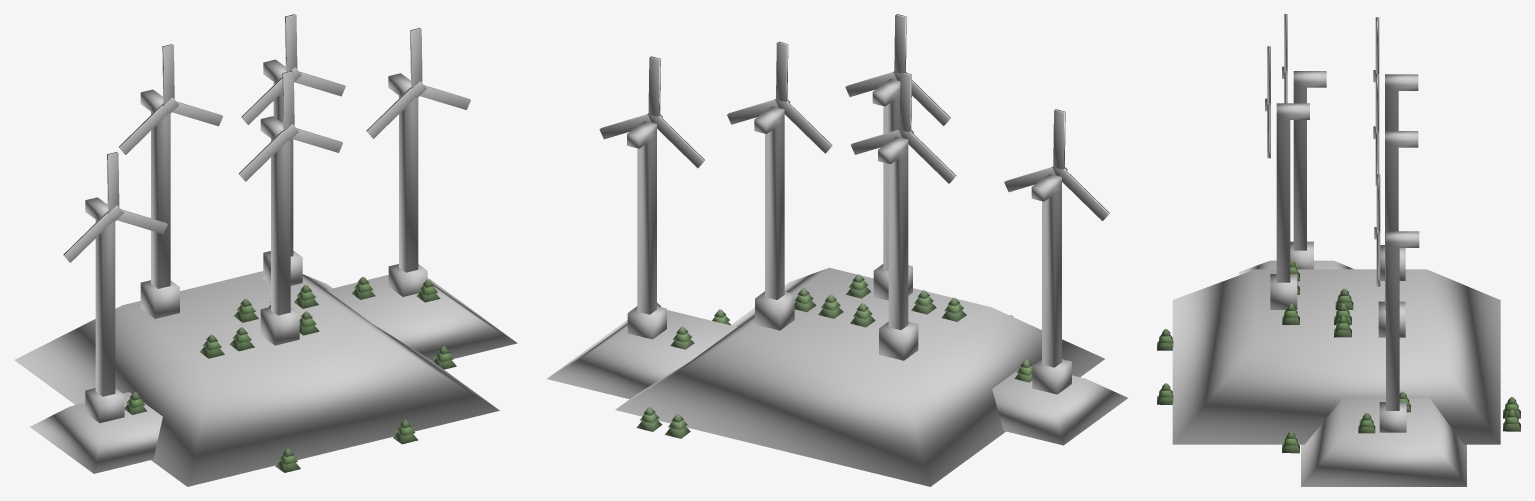
Rendered from Windmill.fbx.
3 renders of one model, left to right at view 1: azimuth 30°, elevation 25°; view 2: azimuth 150°, elevation 25°; view 3: azimuth 270°, elevation 25°, orthographic. The views are drawn at different scales.
Parts seen in each view (by area): view 1: Rock_001, Rock_000, Rock_002, Foot_002, Foot_003, Foot_000, Foot_004, Mill_003, Mill_002, Mill_004, Mill_000, Mill_001 (+1 smaller); view 2: Rock_001, Rock_000, Rock_002, Foot_000, Foot_001, Foot_002, Foot_004, Foot_003, Mill_001, Mill_002, Mill_004, Mill_000 (+1 smaller); view 3: Rock_001, Rock_000, Foot_003, Foot_004, Foot_002, Foot_001, Foot_000, Mill_004, Mill_001, Rock_002, Mill_003.
Boxes of the visible parts, x1,y1,x2,y2 form: Rock_001: [14, 271, 499, 486]; Rock_000: [326, 275, 517, 361]; Rock_002: [30, 392, 162, 473]; Foot_002: [85, 197, 124, 422]; Foot_003: [260, 116, 299, 345]; Foot_000: [140, 89, 179, 318]; Foot_004: [388, 73, 427, 296]; Mill_003: [238, 70, 342, 181]; Mill_002: [63, 152, 167, 262]; Mill_004: [366, 27, 470, 138]; Mill_000: [119, 44, 223, 154]; Mill_001: [241, 14, 345, 124]; Rock_001: [615, 267, 1104, 486]; Rock_000: [547, 310, 736, 399]; Rock_002: [992, 365, 1127, 445]; Foot_000: [878, 136, 918, 360]; Foot_001: [754, 106, 794, 330]; Foot_002: [1031, 174, 1071, 394]; Foot_004: [627, 121, 666, 339]; Foot_003: [872, 79, 912, 300]; Mill_001: [727, 41, 832, 153]; Mill_002: [1004, 109, 1109, 220]; Mill_004: [599, 56, 704, 168]; Mill_000: [851, 72, 956, 183]; Rock_001: [1172, 269, 1500, 444]; Rock_000: [1301, 398, 1466, 486]; Foot_003: [1270, 103, 1309, 309]; Foot_004: [1379, 231, 1419, 432]; Foot_002: [1290, 71, 1326, 269]; Foot_001: [1378, 131, 1418, 337]; Foot_000: [1380, 74, 1418, 280]; Mill_004: [1374, 174, 1380, 286]; Mill_001: [1373, 74, 1379, 185]; Rock_002: [1239, 260, 1353, 274]; Mill_003: [1265, 46, 1270, 158].
Size of the model in its own units: 13.45 by 9.56 by 9.7.
